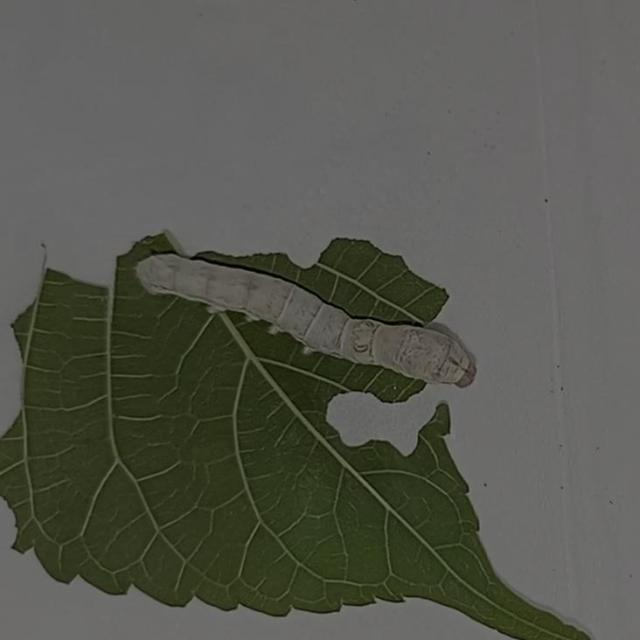Healthy: (112, 203, 508, 430)
